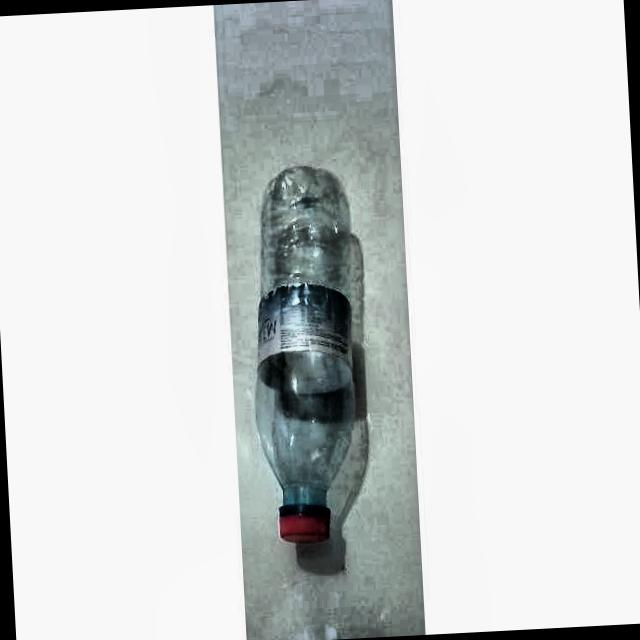plastic bottle: (257, 166, 354, 544)
